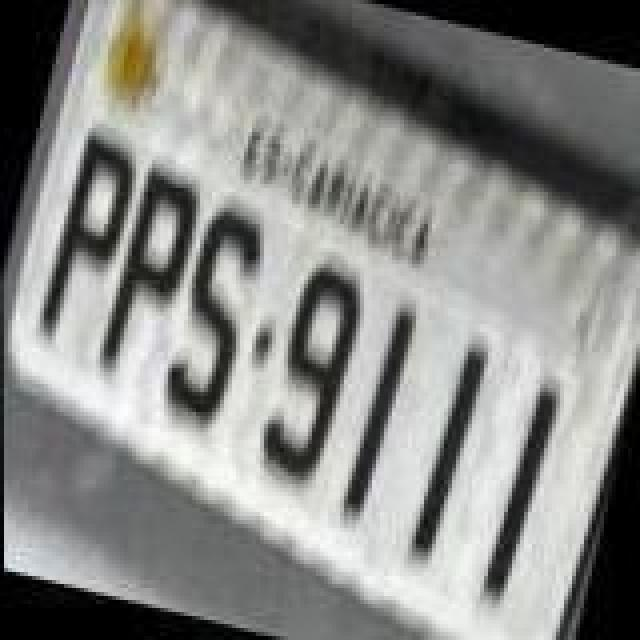1: (336, 298, 420, 518), (408, 338, 492, 558), (480, 386, 564, 606)
9: (254, 262, 374, 490)
P: (32, 128, 148, 360), (96, 160, 212, 384)
S: (154, 204, 274, 436)
